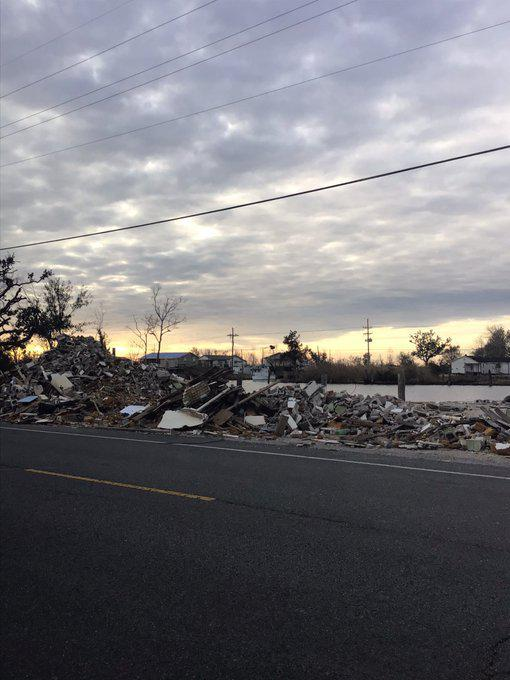destroyed: (7, 341, 510, 457)
